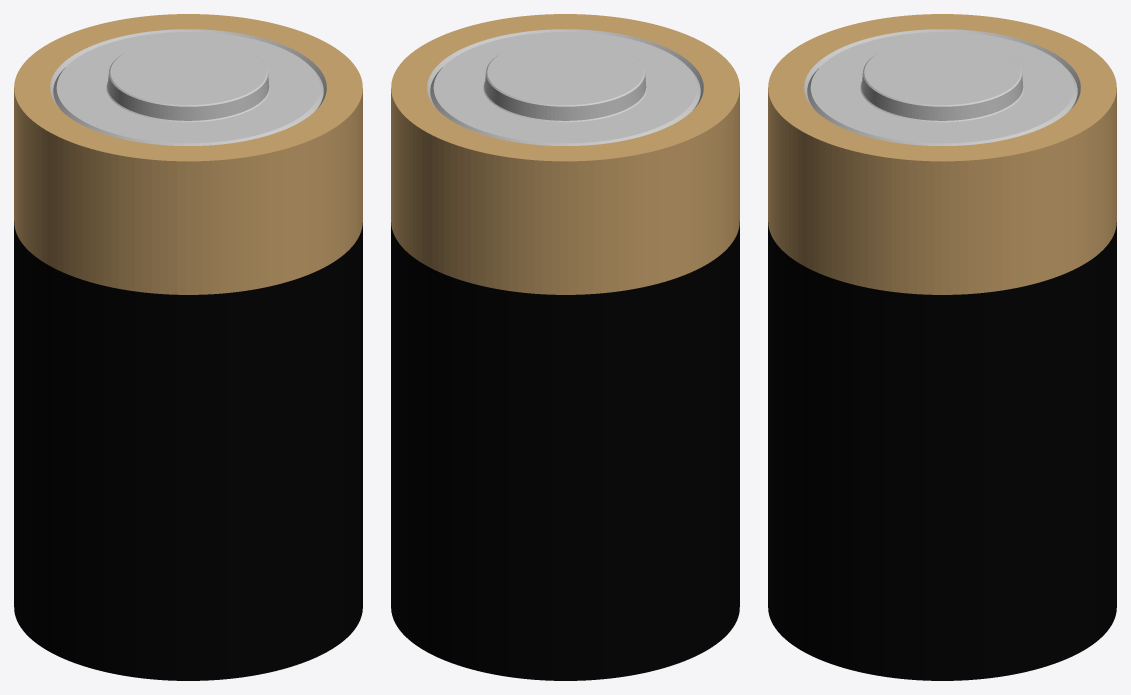
Rendered from battery_AA.fbx.
3 renders of one model, left to right at view 1: azimuth 30°, elevation 25°; view 2: azimuth 150°, elevation 25°; view 3: azimuth 270°, elevation 25°, orthographic.
Parts seen in each view (by area): view 1: BatteryAA_original.002; view 2: BatteryAA_original.002; view 3: BatteryAA_original.002.
Part boxes in pixels (x1,y1,x2,y2): BatteryAA_original.002: [14, 14, 362, 680]; BatteryAA_original.002: [391, 14, 739, 680]; BatteryAA_original.002: [768, 14, 1116, 680].
Bounding box in the file's own units: 200 × 342 × 200.
